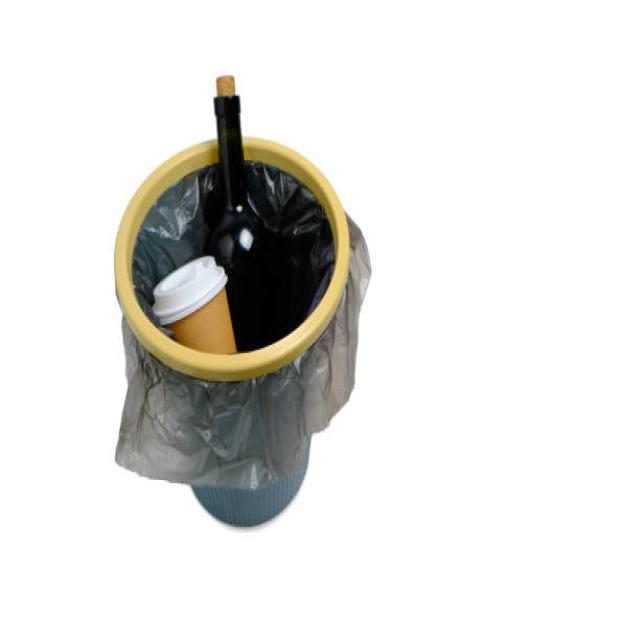cardboard: (157, 273, 237, 356)
glass: (209, 79, 278, 318)
